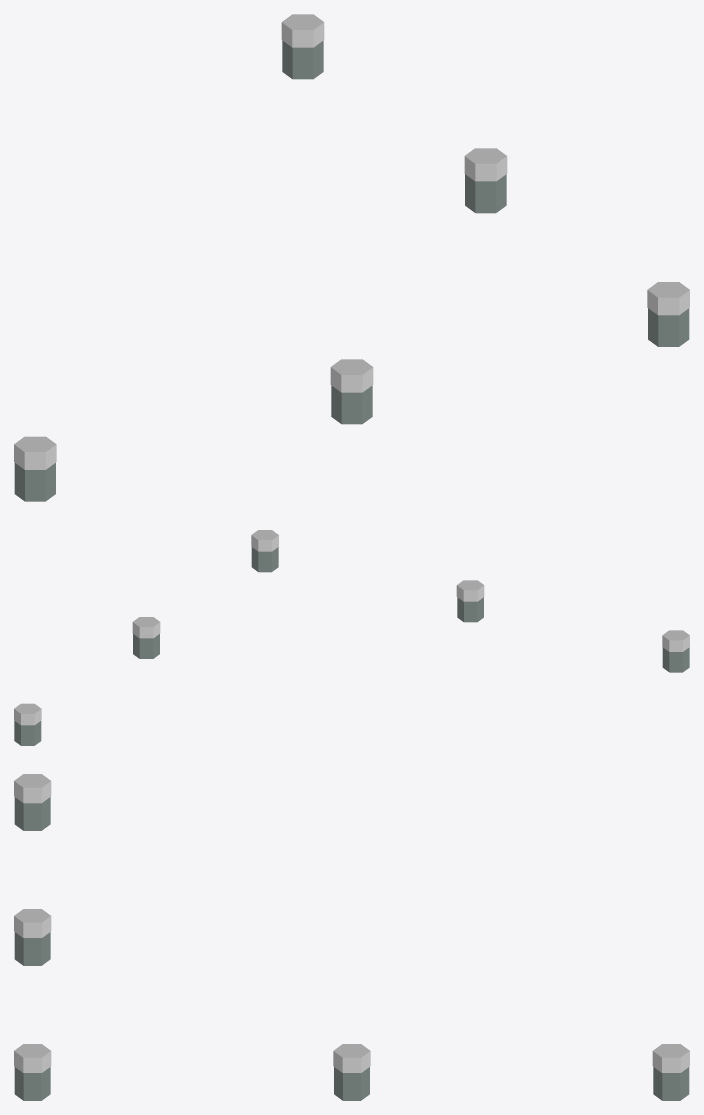
File: SM_Balizas_v2_EnL_LOD1.fbx
The picture shows the model from 3 angles, top to bottom: view 1: azimuth 30°, elevation 25°; view 2: azimuth 150°, elevation 25°; view 3: azimuth 270°, elevation 25°; orthographic projection. The views are drawn at different scales.
Parts seen in each view (by area): view 1: SM_ambiente_aerodromo_v7_LOD1; view 2: SM_ambiente_aerodromo_v7_LOD1; view 3: SM_ambiente_aerodromo_v7_LOD1.
Boxes of the visible parts, box(x1,y1,x2,y2) form: SM_ambiente_aerodromo_v7_LOD1: box(14, 14, 689, 501); SM_ambiente_aerodromo_v7_LOD1: box(14, 530, 689, 745); SM_ambiente_aerodromo_v7_LOD1: box(14, 774, 689, 1100).
Size of the model in its own units: 6.3 by 0.45 by 6.35.
